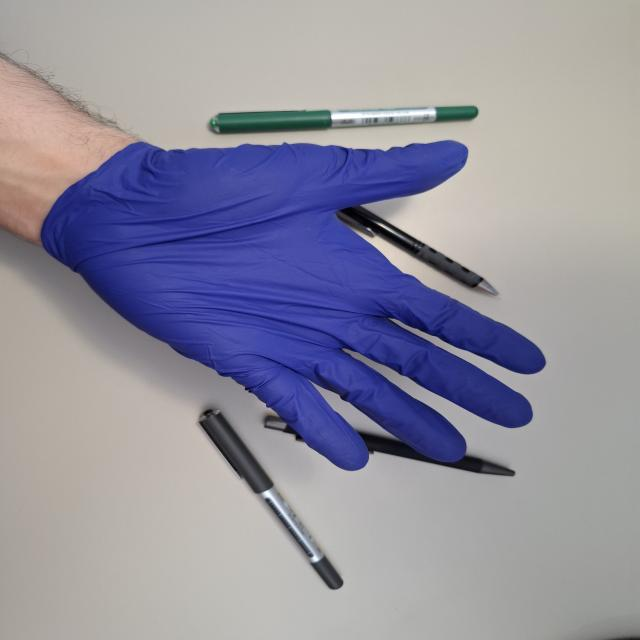glove_on: (39, 130, 549, 474)
